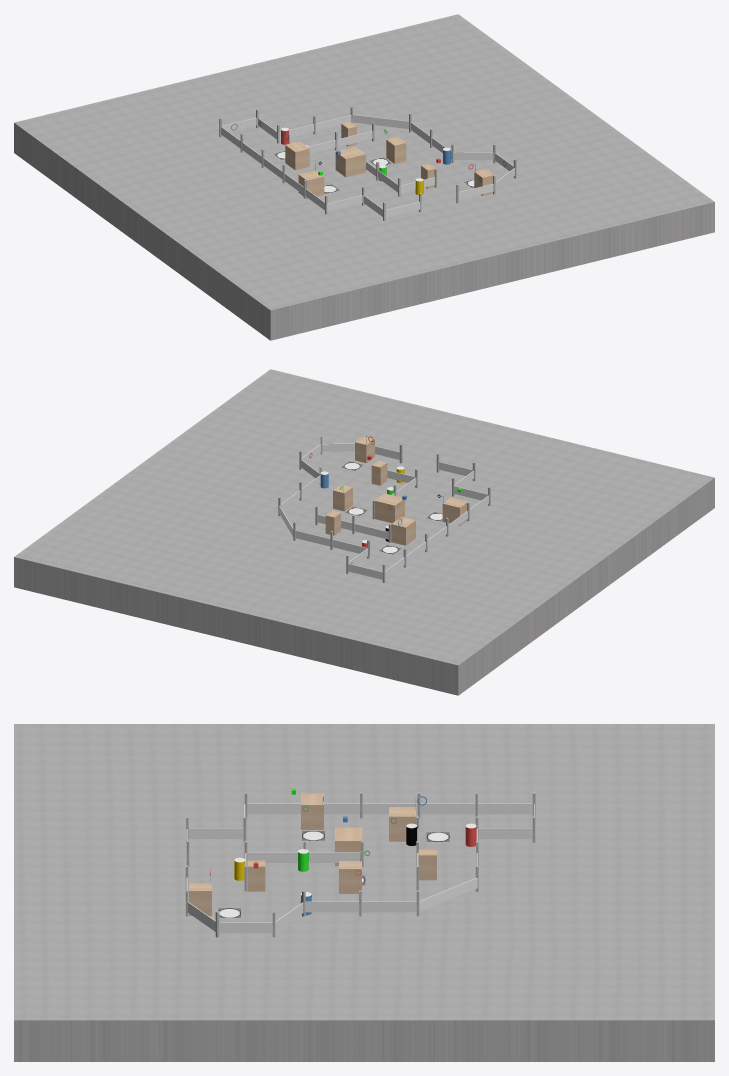
Rendered from map.dae.
3 renders of one model, top to bottom at view 1: azimuth 30°, elevation 25°; view 2: azimuth 150°, elevation 25°; view 3: azimuth 270°, elevation 25°, orthographic. The views are drawn at different scales.
Visible parts, largest first — view 1: main; view 2: main; view 3: main.
Boxes of the visible parts, x1=… form: main: x1=14, y1=14, x2=714, y2=340; main: x1=14, y1=369, x2=714, y2=695; main: x1=14, y1=724, x2=714, y2=1061.
Bounding box in the file's own units: 15.34 × 15.34 × 1.92.
